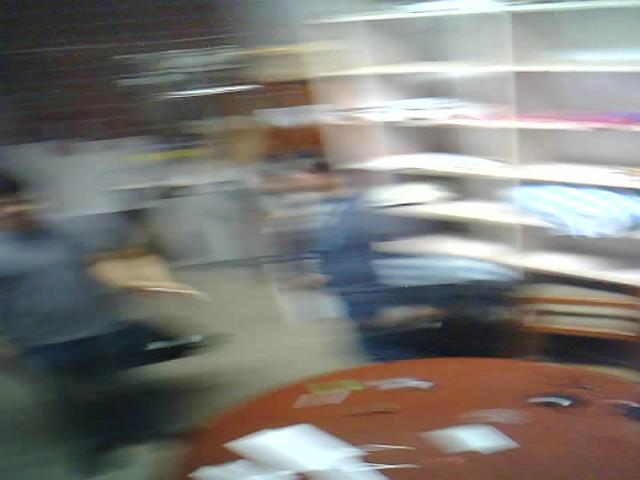person: (0, 143, 213, 479), (284, 115, 502, 384)
